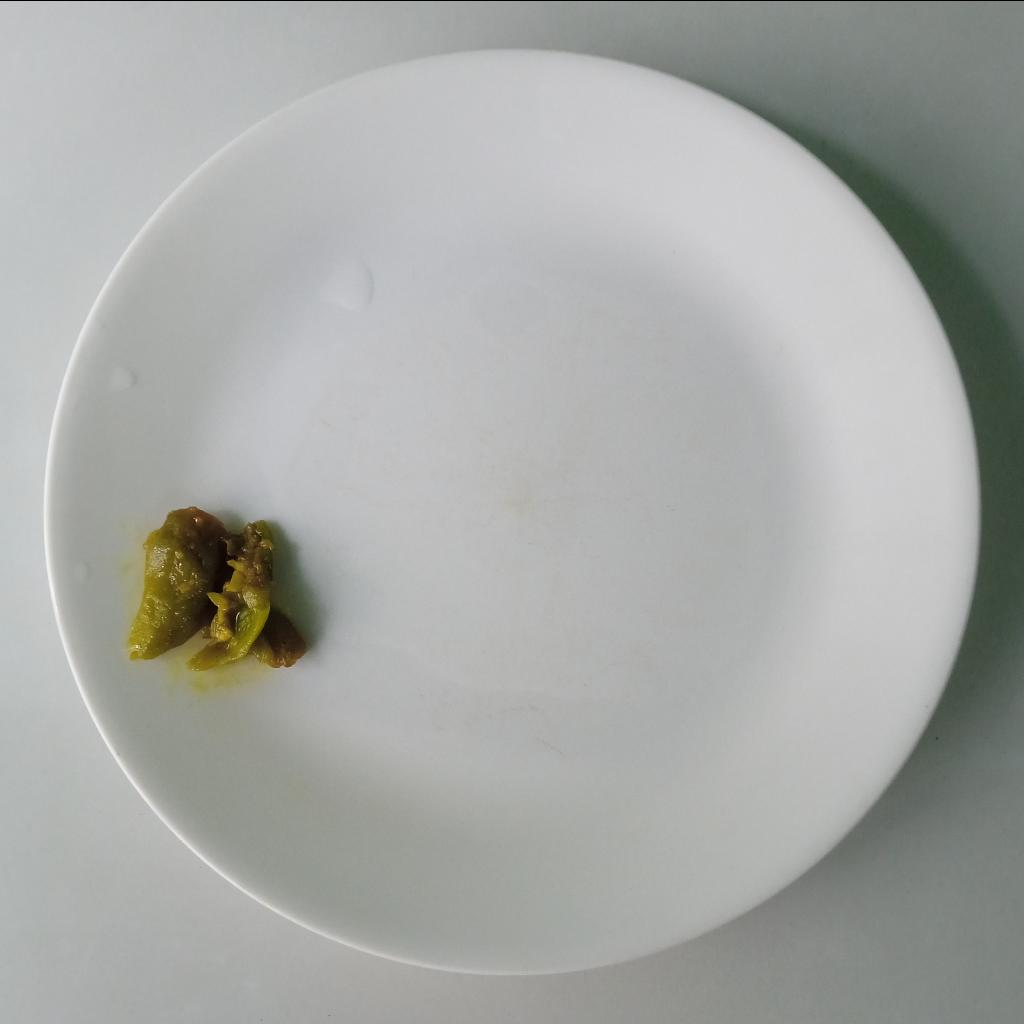dundol: (121, 502, 309, 671)
